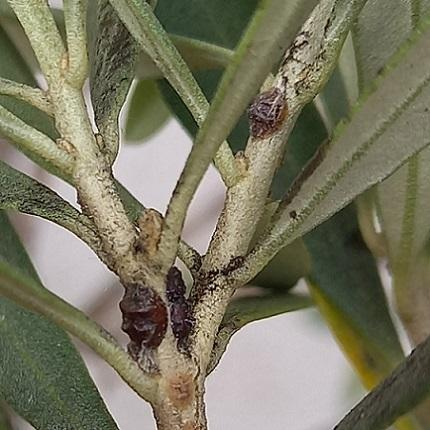BlackScale: (119, 263, 190, 355), (241, 90, 294, 138)
